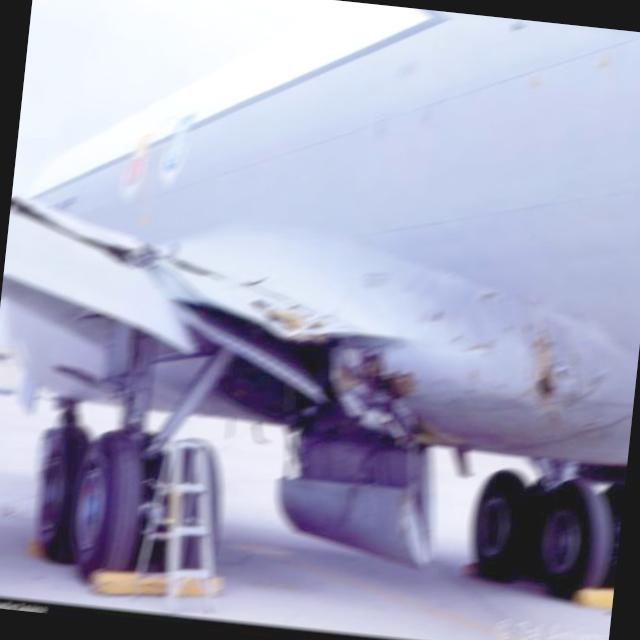dent: (393, 272, 530, 386)
